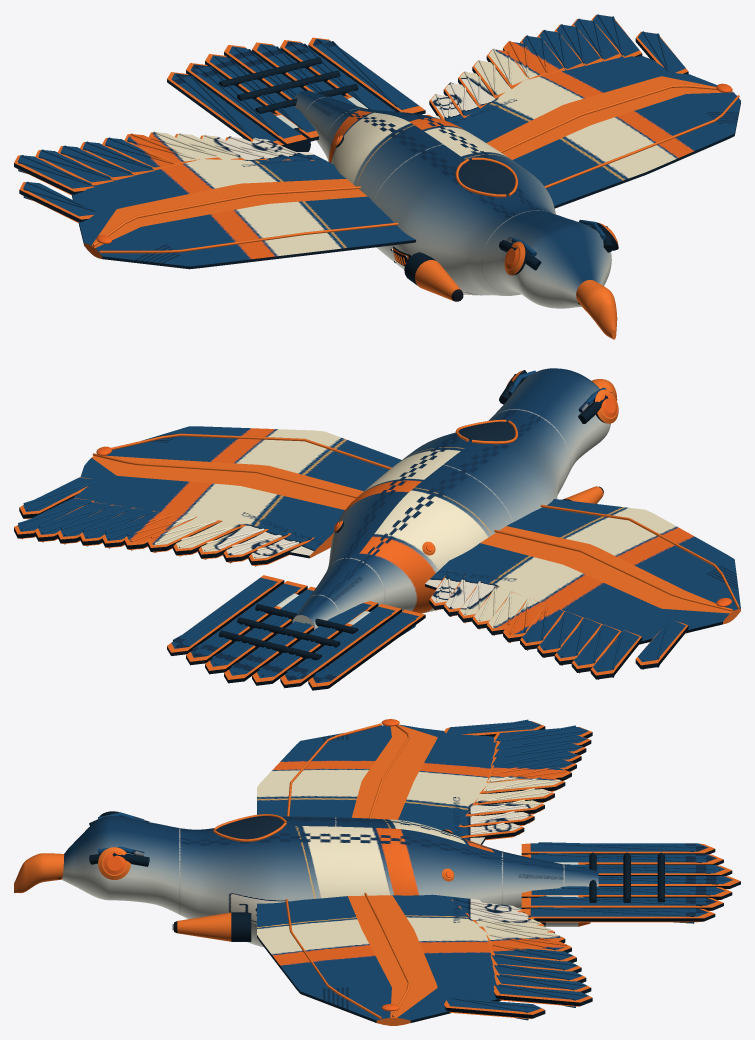
The picture shows the model from 3 angles, top to bottom: view 1: azimuth 30°, elevation 25°; view 2: azimuth 150°, elevation 25°; view 3: azimuth 270°, elevation 25°; orthographic projection. The views are drawn at different scales.
Parts seen in each view (by area): view 1: goshawk_hull; view 2: goshawk_hull; view 3: goshawk_hull.
Part boxes in pixels (x1,y1,x2,y2): goshawk_hull: (14,14,740,339); goshawk_hull: (14,368,740,690); goshawk_hull: (14,719,740,1025).
Bounding box in the file's own units: 63.21 × 11.85 × 66.
Materials: 1 (1 with a texture image).
